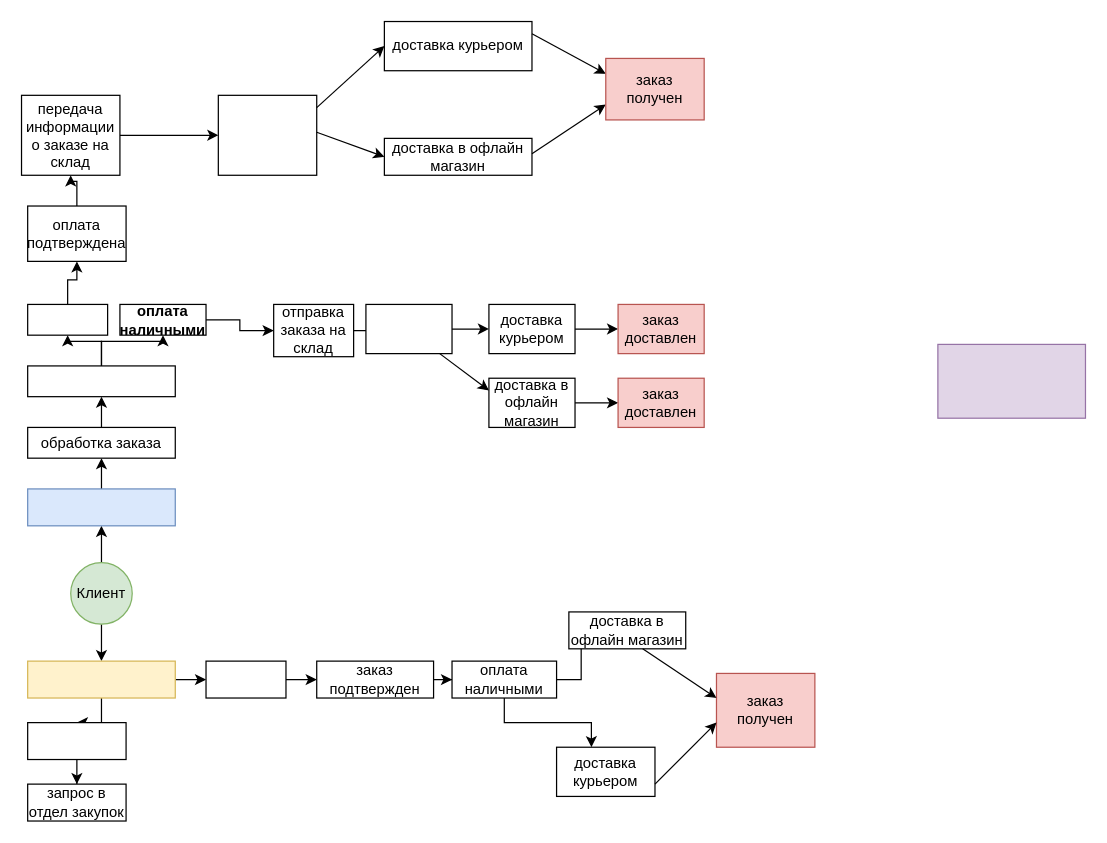
Image size: 1107x843. Some labels were removed from this diagram. The shapes that lost their labels are listed below. From the top down, each one's box as (x1, y1, x2, y2) in pixels, then its label:
(217, 94, 317, 175): передача заказа в службу доставки
(26, 303, 108, 335): оплата онлайн
(365, 303, 452, 354): отправка в отдел доставки
(26, 365, 175, 397): подтверждение заказа
(937, 343, 1085, 418): отмена заказа возможна на любом этапе
(26, 488, 175, 526): Зак через онлайн магазин
(26, 660, 175, 698): заказ через офлайн магазин
(205, 660, 286, 698): товар есть
(26, 721, 126, 760): товара нет
